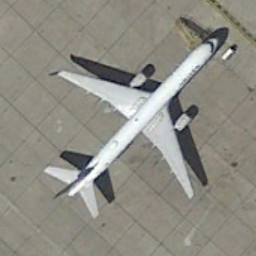Airplane: (40, 21, 225, 226)
